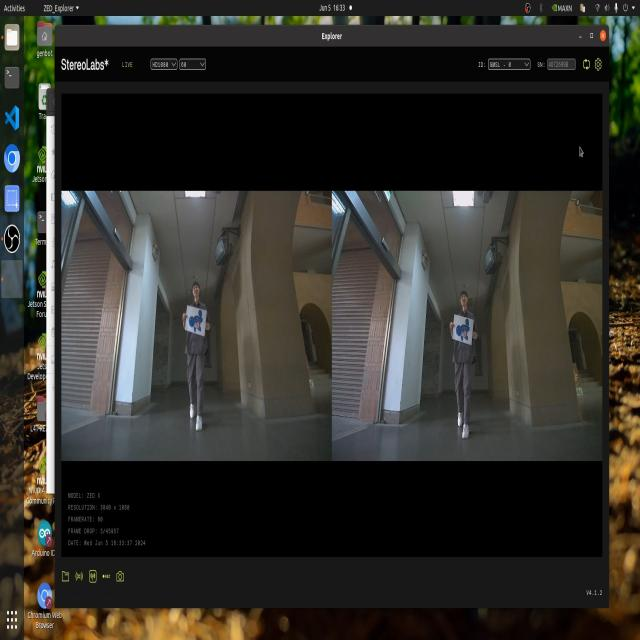blue: (455, 314, 479, 347), (185, 310, 207, 341)
